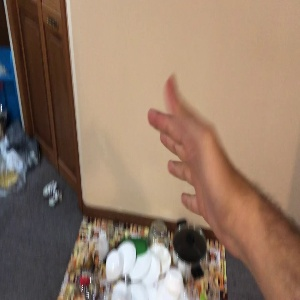hand: (149, 75, 263, 247)
